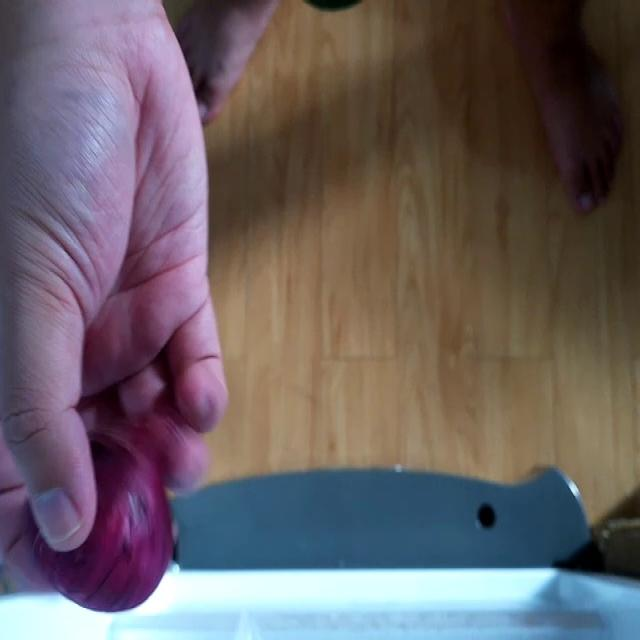onion: (21, 393, 213, 606)
